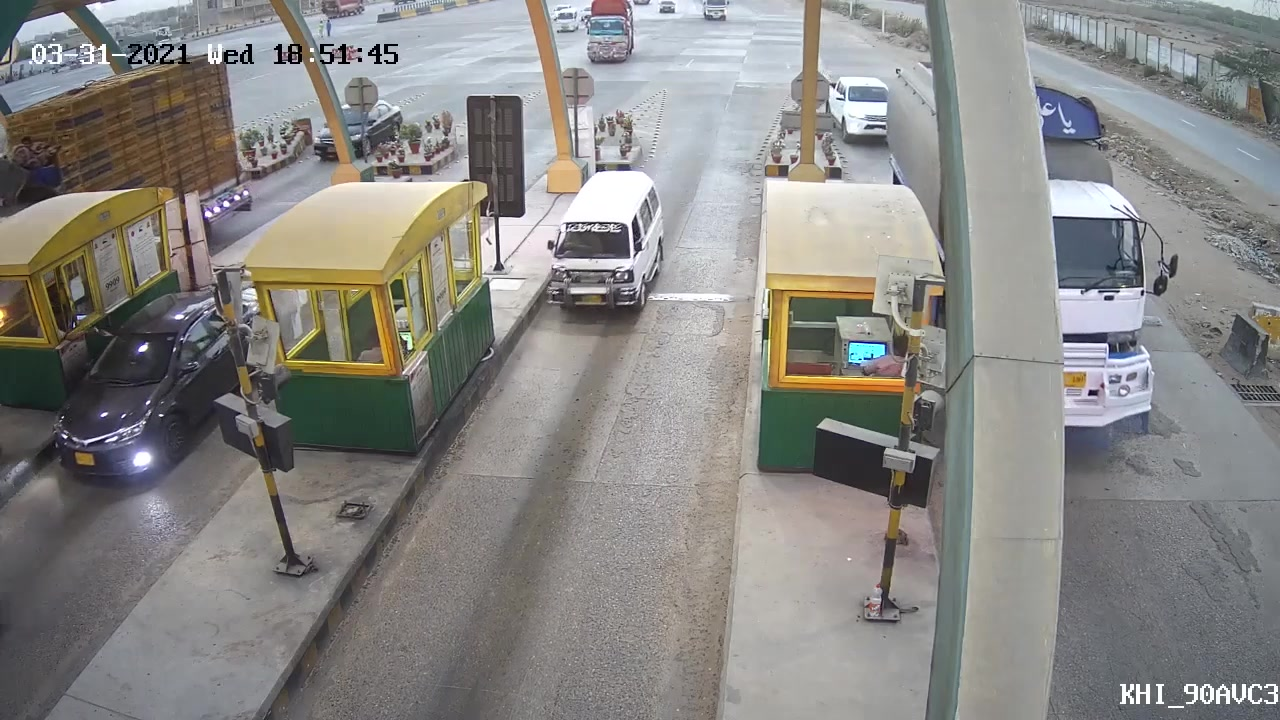F1: (528, 167, 675, 322)
